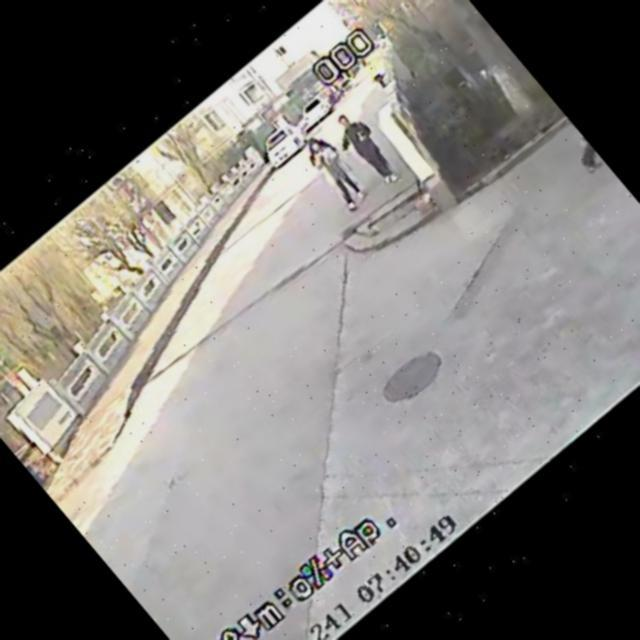person: (322, 102, 407, 193), (295, 128, 377, 215)
